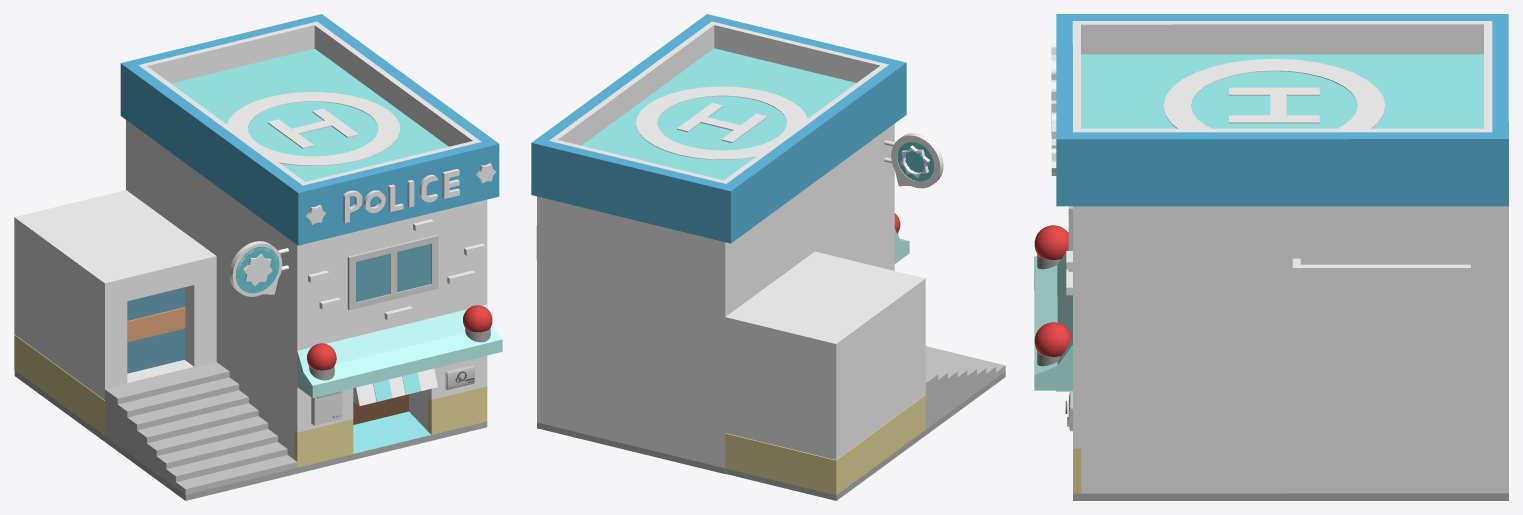
The model's file is police1.glb.
3 views of the same model, side by side, from view 1: azimuth 30°, elevation 25°; view 2: azimuth 150°, elevation 25°; view 3: azimuth 270°, elevation 25° (orthographic). The views are drawn at different scales.
Parts seen in each view (by area): view 1: box.095, box.027, box.052, box.058, box.048, box.091, box.053, box.056, annulus.005, box.023, wedge.003, box.028 (+39 smaller); view 2: box.095, box.027, box.052, box.091, box.058, box.094, box.090, box.093, box.053, box.055, annulus.005, box.057 (+15 smaller); view 3: box.095, box.091, box.057, box.052, box.090, box.054, box.086, box, annulus.005, box.098, box.058, box.088 (+11 smaller).
Part boxes in pixels (x1,y1,x2,y2): box.095: (126,120,487,350); box.027: (14,190,203,390); box.052: (171,48,448,181); box.058: (120,60,308,245); box.048: (291,140,499,245); box.091: (216,292,487,414); box.053: (312,21,481,146); box.056: (138,22,319,83); annulus.005: (227,92,400,165); box.023: (92,271,127,399); wedge.003: (297,304,493,392); box.028: (182,246,216,367); box.095: (537,124,894,352); box.027: (725,261,912,459); box.052: (582,48,856,180); box.091: (537,228,894,415); box.058: (719,62,906,243); box.094: (542,141,725,240); box.090: (537,371,725,468); box.093: (725,395,925,495); box.053: (549,21,716,145); box.055: (711,22,883,82); annulus.005: (636,86,807,159); box.057: (531,15,715,197); box.095: (1073,206,1508,344); box.091: (1073,344,1508,426); box.057: (1056,132,1508,206); box.052: (1081,54,1483,128); box.090: (1138,426,1508,493); box.054: (1072,21,1492,54); box.086: (1073,426,1508,448); box: (1292,264,1470,312); annulus.005: (1163,58,1385,128); box.098: (1073,493,1508,500); box.058: (1057,14,1508,20); box.088: (1081,448,1138,493).
Size of the model in its own units: 5.67 by 4.9 by 5.77.
